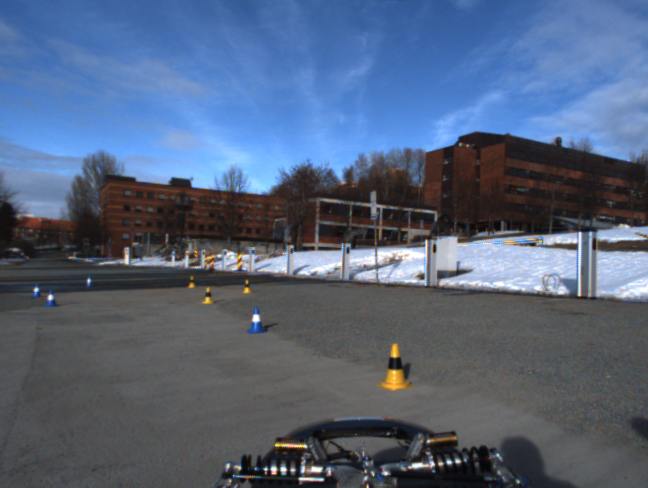cone-small-blue: (247, 305, 267, 334), (44, 289, 60, 307), (31, 283, 42, 299), (85, 276, 95, 287)
cone-small-yellow: (376, 343, 413, 391), (202, 287, 215, 304), (241, 279, 252, 294), (187, 275, 197, 288)
